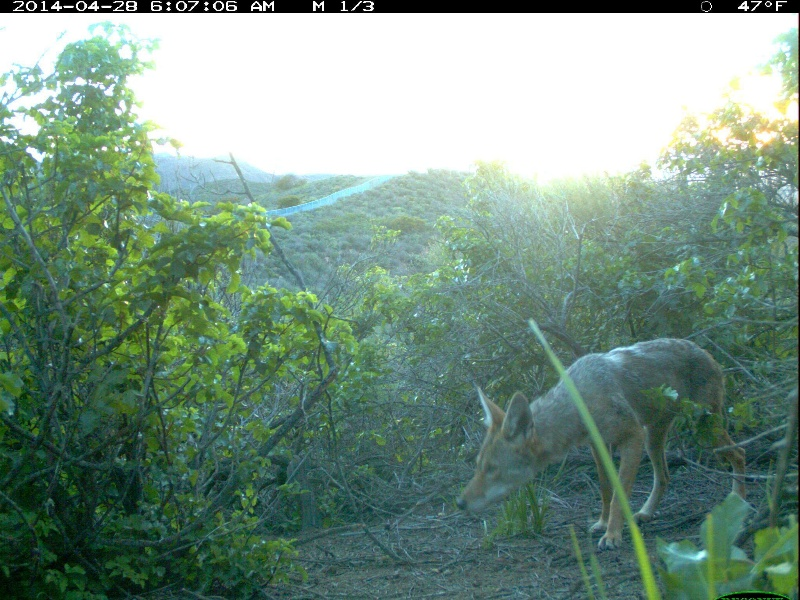coyote: (457, 332, 755, 557)
